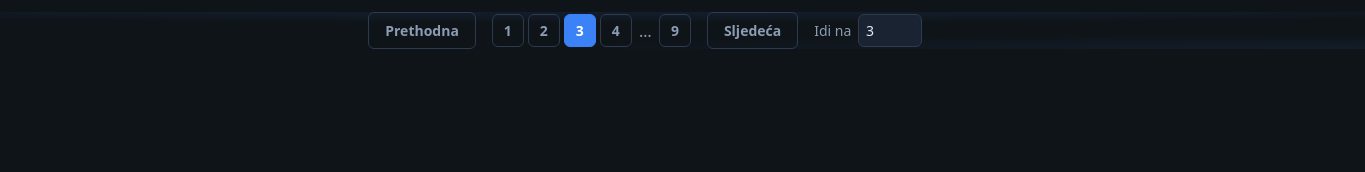
Test case: Pagination › does not navigate on empty or invalid input
The width and height of the screenshot is (1365, 172).
Clear the number field named "Broj stranice": (890, 30) [858,14,922,47]
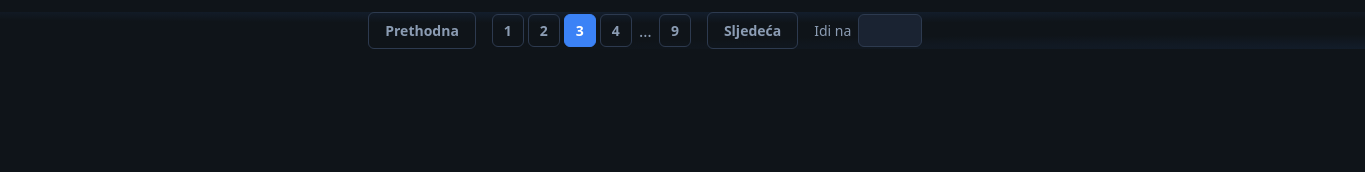
Submit the form named "Broj stranice", box [814,14,922,47]
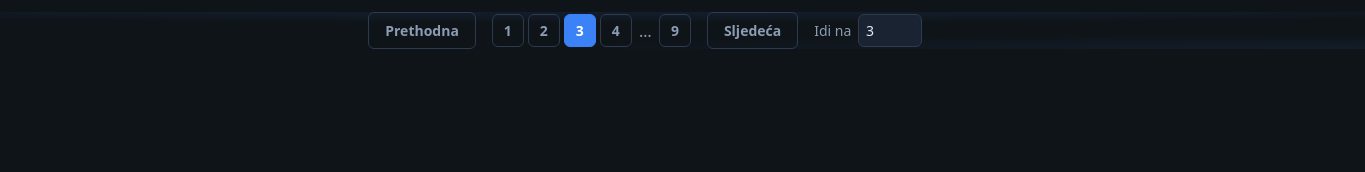
Expected: the number field named "Broj stranice" holds "3"
Replace the text in the number field named "Broj stranice" with "abc": (890, 30) [858,14,922,47]
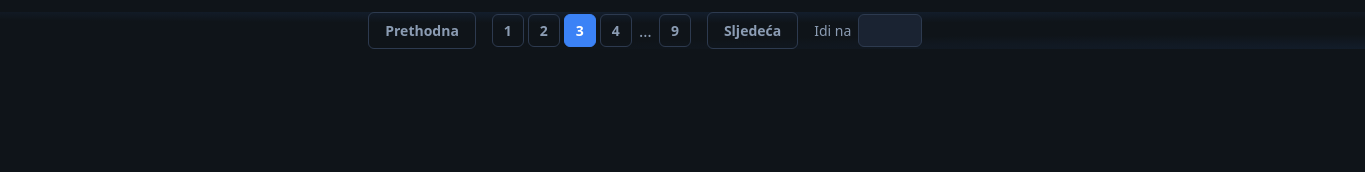
Leave the number field named "Broj stranice", box [858,14,922,47]
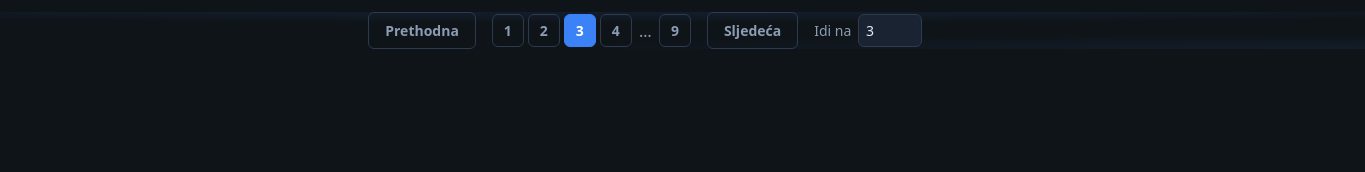
Expected: the number field named "Broj stranice" holds "3", [858,14,922,47]
